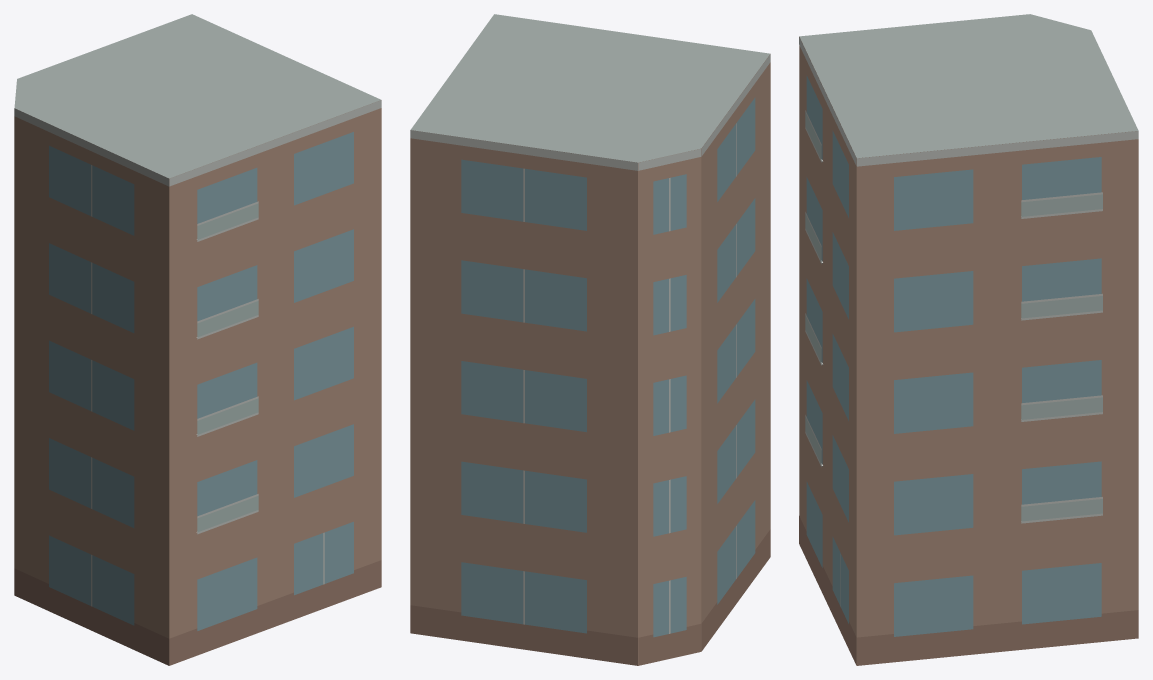
File: survey-upis-33006405.glb
3 renders of one model, left to right at view 1: azimuth 30°, elevation 25°; view 2: azimuth 150°, elevation 25°; view 3: azimuth 270°, elevation 25°, orthographic. The views are drawn at different scales.
Visible parts, largest first — view 1: survey-upis-33006405.tmp; view 2: survey-upis-33006405.tmp; view 3: survey-upis-33006405.tmp.
Part boxes in pixels (x1=…): survey-upis-33006405.tmp: x1=14, y1=14, x2=381, y2=665; survey-upis-33006405.tmp: x1=410, y1=14, x2=770, y2=665; survey-upis-33006405.tmp: x1=799, y1=14, x2=1138, y2=665.
Bounding box in the file's own units: 9.03 × 14.8 × 8.98.
